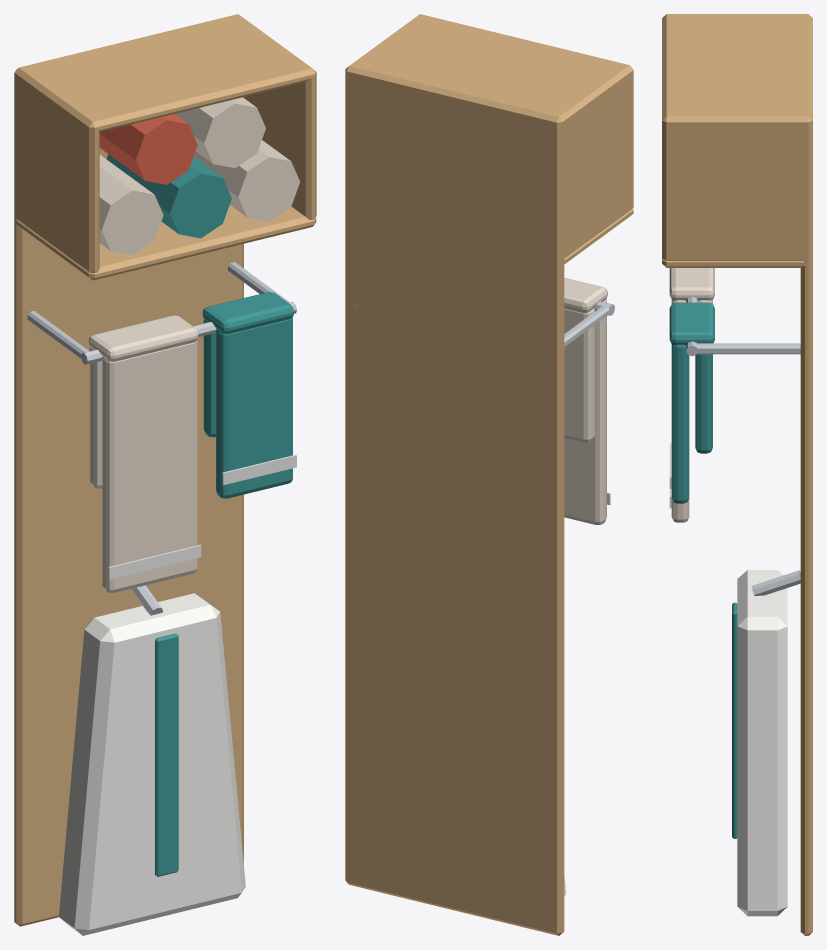
Rendered from towel_set.glb.
The picture shows the model from 3 angles, left to right: view 1: azimuth 30°, elevation 25°; view 2: azimuth 150°, elevation 25°; view 3: azimuth 270°, elevation 25°; orthographic projection. The views are drawn at different scales.
Visible parts, largest first — view 1: towel_set_Body; view 2: towel_set_Body; view 3: towel_set_Body.
Part boxes in pixels (x1=…): towel_set_Body: x1=14, y1=14, x2=316, y2=935; towel_set_Body: x1=345, y1=14, x2=633, y2=935; towel_set_Body: x1=662, y1=14, x2=812, y2=935.
Size of the model in its own units: 0.5 by 1.8 by 0.3.
